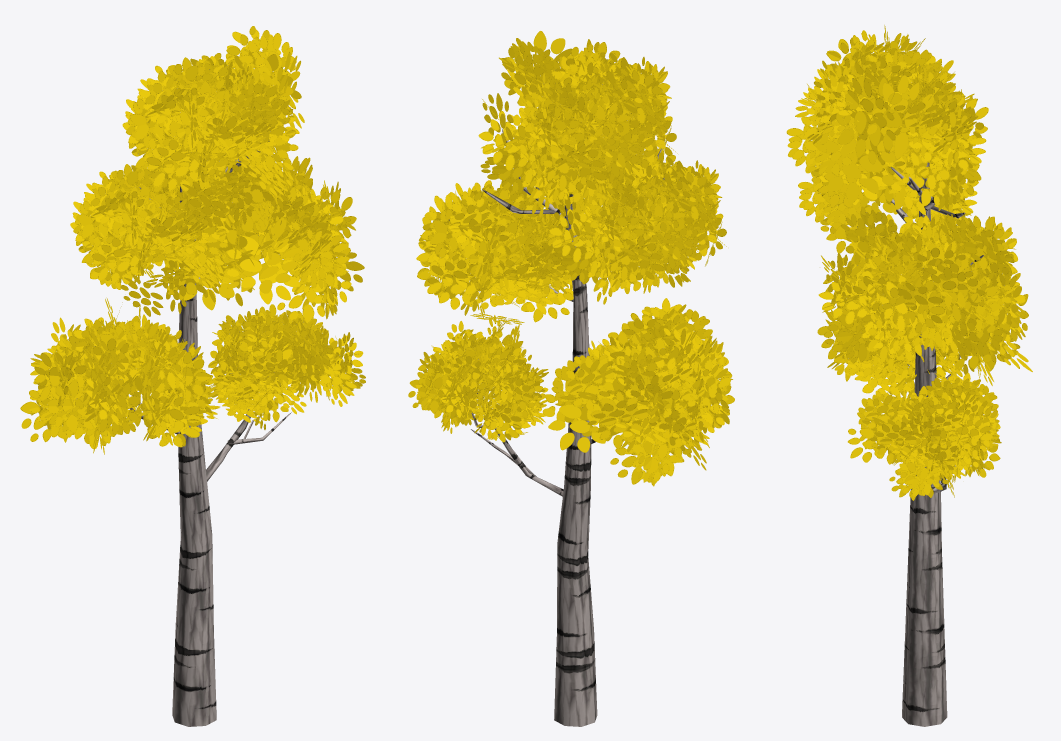
File: BirchTree_1.glb
3 views of the same model, side by side, from view 1: azimuth 30°, elevation 25°; view 2: azimuth 150°, elevation 25°; view 3: azimuth 270°, elevation 25° (orthographic). The views are drawn at different scales.
Size of the model in its own units: 2.71 by 5.45 by 1.94.
Materials: 2 (2 with a texture image).
